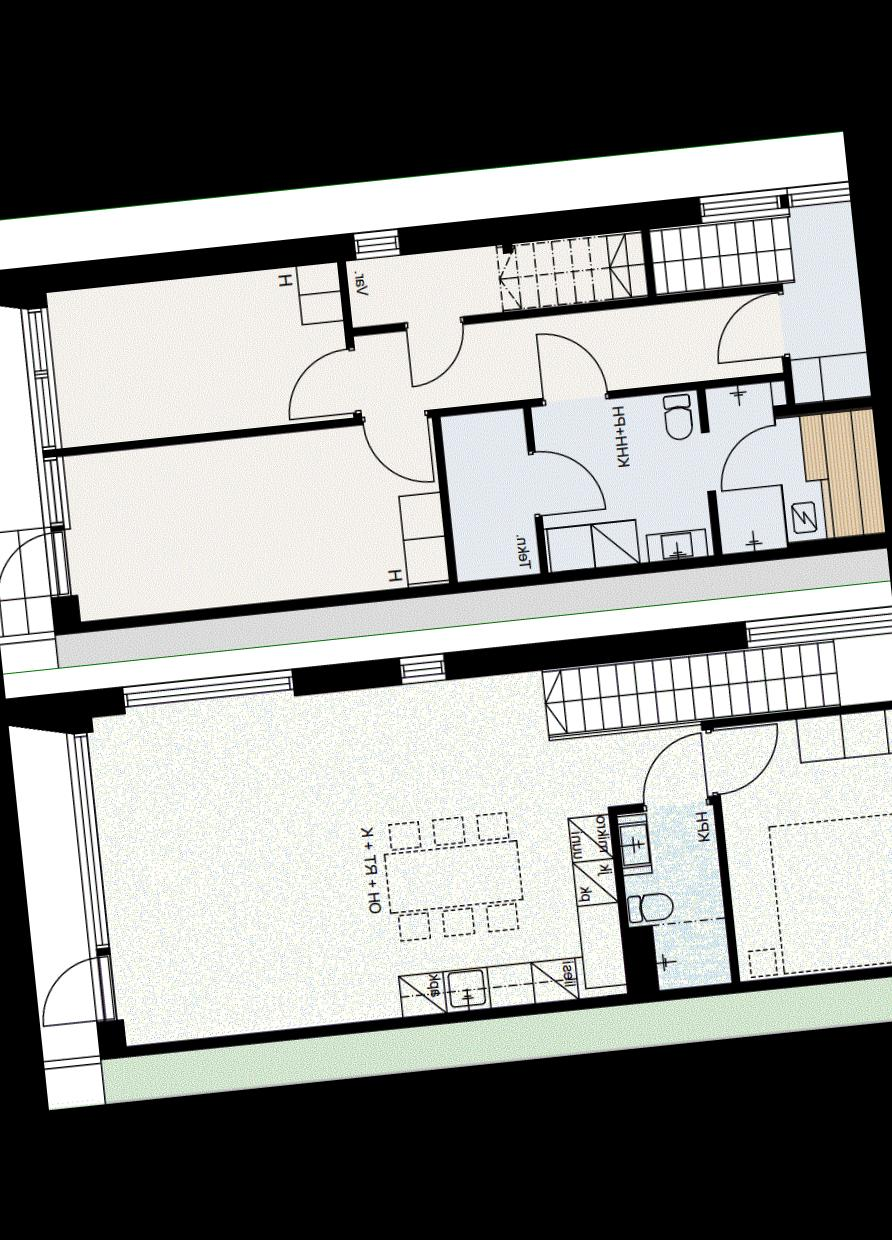door: (698, 718, 788, 798), (33, 950, 118, 1034), (278, 342, 362, 426), (530, 324, 614, 408), (526, 440, 611, 522), (356, 408, 442, 486), (710, 288, 788, 369), (631, 728, 706, 812), (712, 416, 784, 498), (400, 316, 472, 390), (0, 525, 68, 603)
window: (56, 730, 117, 962), (116, 662, 309, 716), (735, 600, 892, 652), (17, 303, 63, 453), (690, 182, 790, 221), (34, 447, 72, 528), (388, 648, 456, 692), (777, 177, 851, 214), (345, 219, 405, 261)
